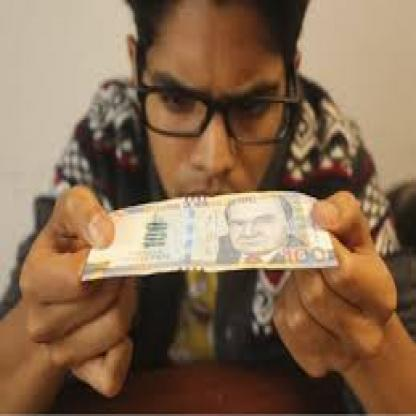billete: (77, 188, 337, 278)
